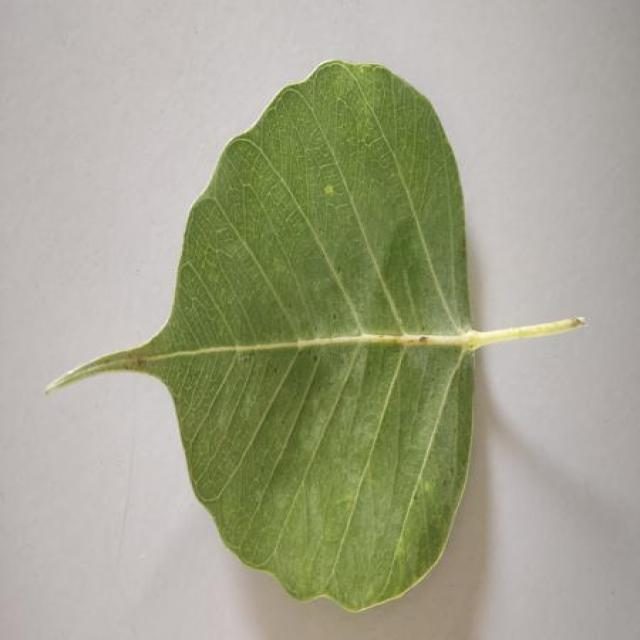arali: (50, 61, 583, 611)
